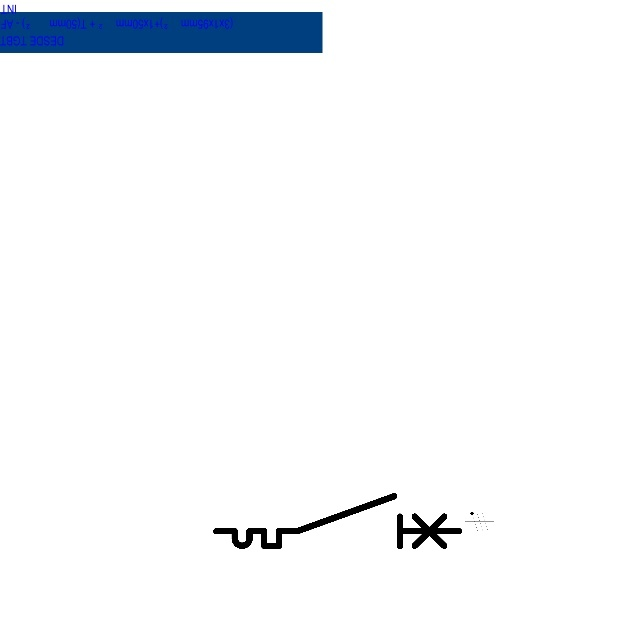interruptor_termomagnetico: (210, 490, 465, 552)
